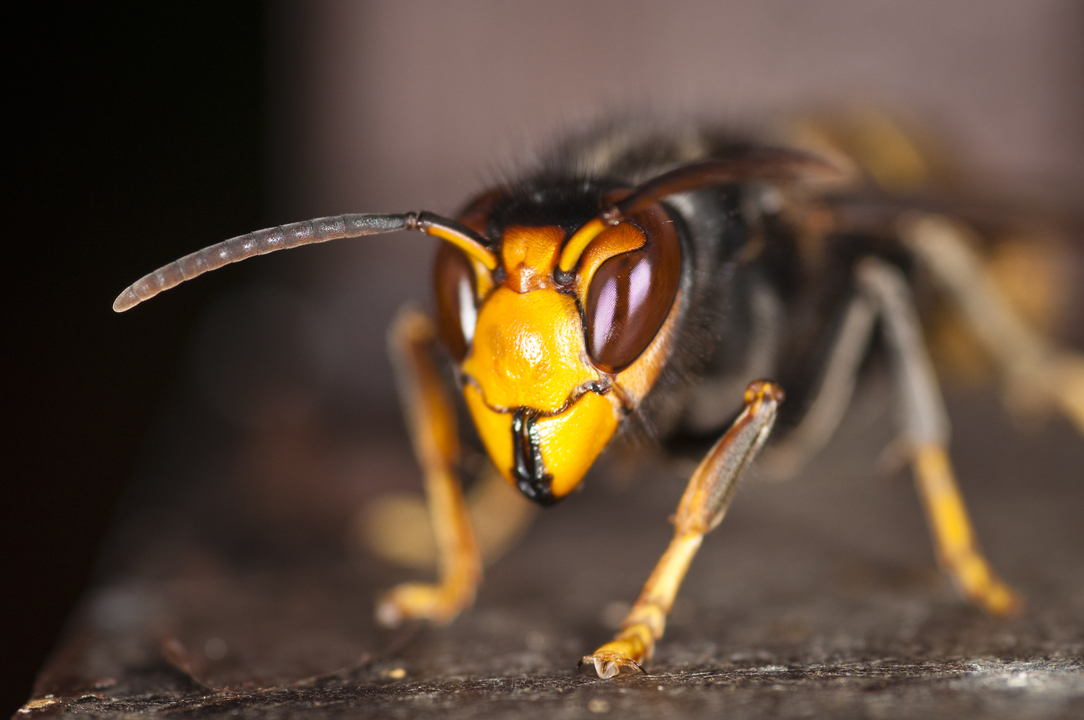hornet: (289, 100, 1084, 665)
